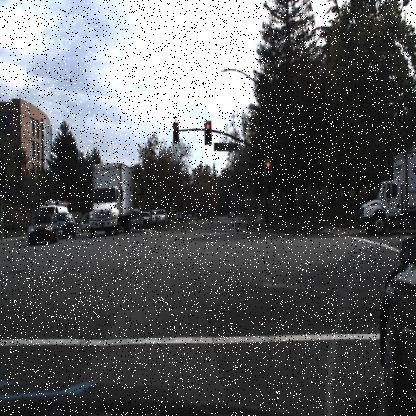car: (375, 220, 415, 416), (374, 226, 412, 405), (25, 210, 59, 247), (36, 200, 70, 222), (136, 211, 154, 226), (152, 208, 167, 223)
trafficLight-Red: (262, 158, 274, 187), (203, 119, 213, 146)
trafficLight-RedLeft: (172, 119, 180, 146)
truck: (358, 148, 414, 233), (84, 159, 136, 242)
